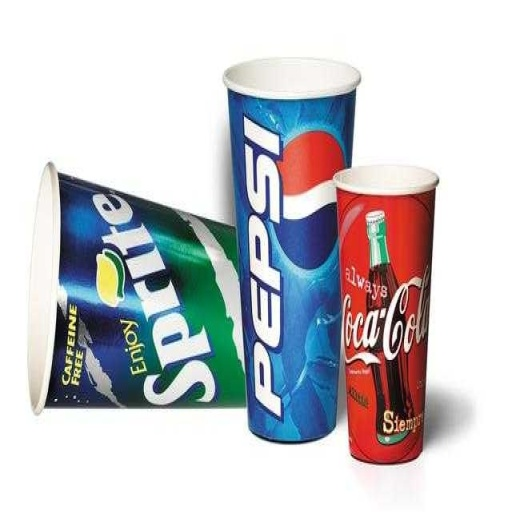cup: (28, 161, 247, 416), (221, 56, 360, 443), (332, 163, 439, 464)
